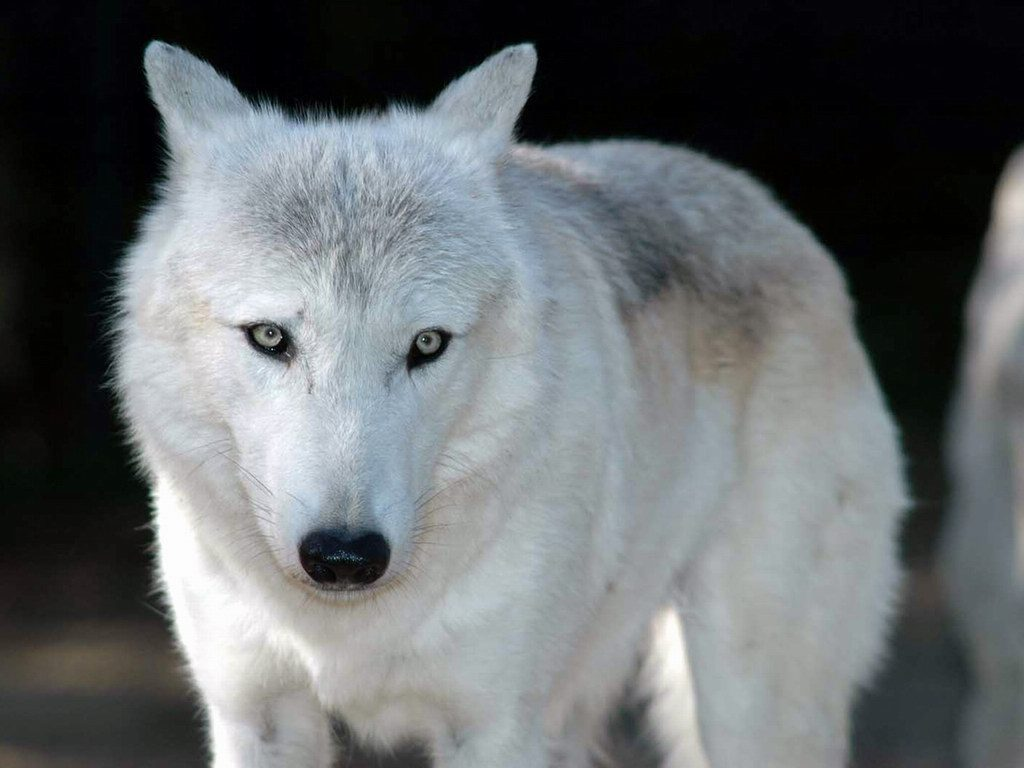wolf: (62, 20, 927, 768)
